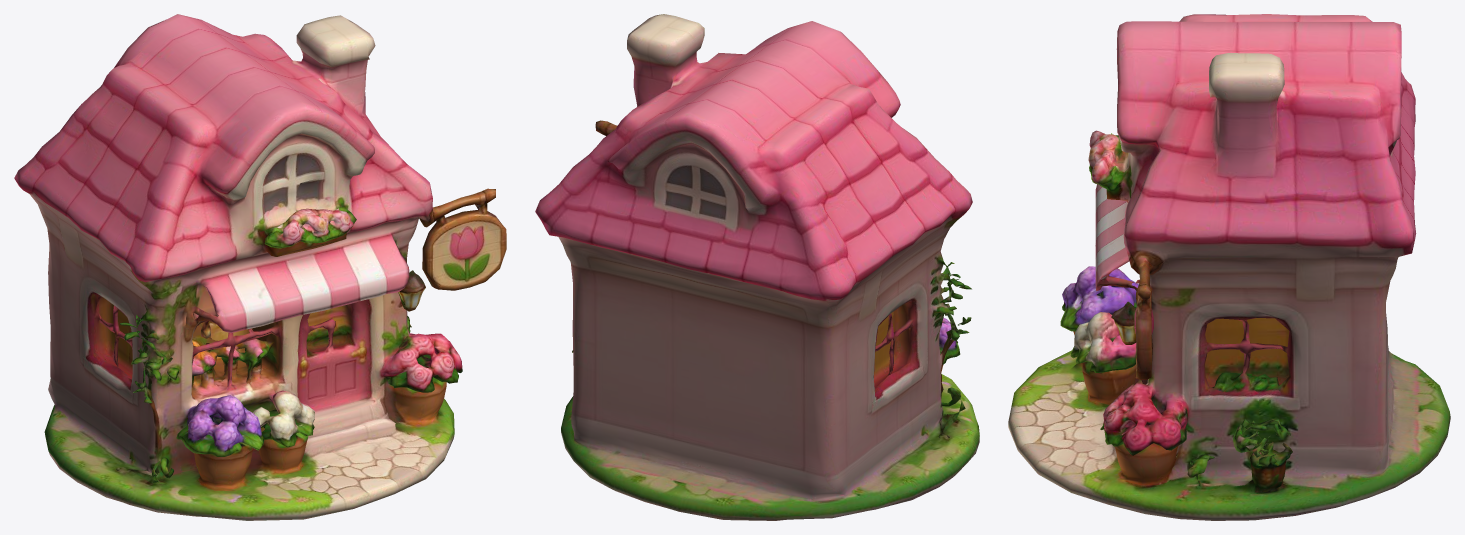
File: 06-flower-shop.glb
3 renders of one model, left to right at view 1: azimuth 30°, elevation 25°; view 2: azimuth 150°, elevation 25°; view 3: azimuth 270°, elevation 25°, orthographic. The views are drawn at different scales.
Parts seen in each view (by area): view 1: tripo_node_8b8240fd-71f3-430f-919d-c11fffd66391; view 2: tripo_node_8b8240fd-71f3-430f-919d-c11fffd66391; view 3: tripo_node_8b8240fd-71f3-430f-919d-c11fffd66391.
Boxes of the visible parts, x1,y1,x2,y2 form: tripo_node_8b8240fd-71f3-430f-919d-c11fffd66391: (14, 14, 506, 520); tripo_node_8b8240fd-71f3-430f-919d-c11fffd66391: (535, 14, 979, 520); tripo_node_8b8240fd-71f3-430f-919d-c11fffd66391: (1008, 14, 1450, 520).
Size of the model in its own units: 0.9751 by 0.8974 by 0.8672.
Materials: 1 (1 with a texture image).
